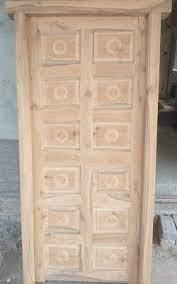door: (13, 0, 162, 284)
